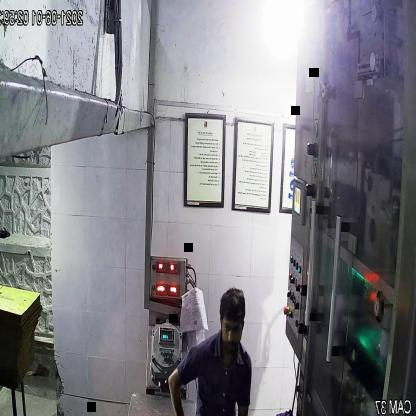no_goggles: (218, 317, 247, 338)
